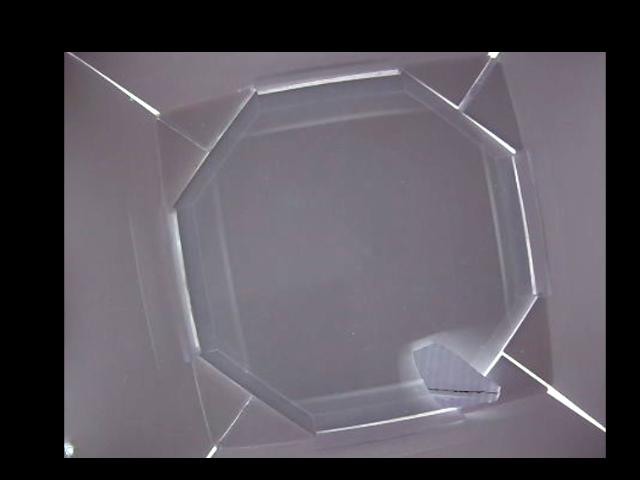China: (411, 336, 504, 414)
